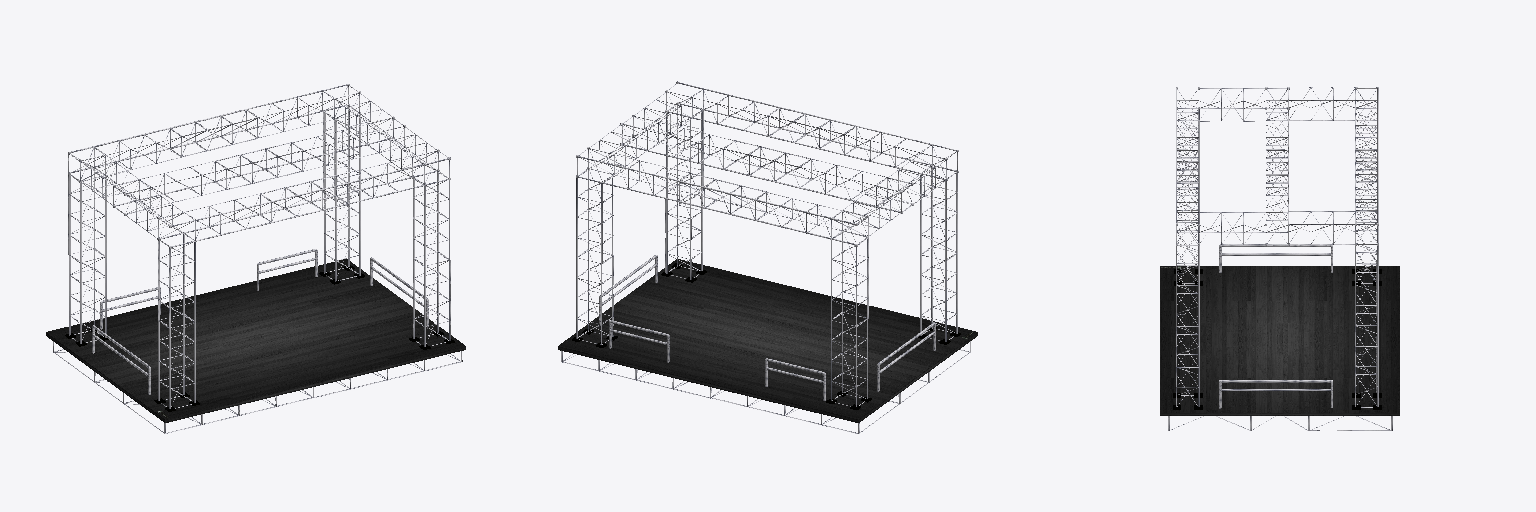
3 renders of one model, left to right at view 1: azimuth 30°, elevation 25°; view 2: azimuth 150°, elevation 25°; view 3: azimuth 270°, elevation 25°, orthographic.
Visible parts, largest first — view 1: Cube.001, Cube.005_Cube.016, Cube.004_Cube.015, Cube.007_Cube.018, Cube.011_Cube.022, Cube.010_Cube.021, Cube.002_Cube.013, Cube.003_Cube.014, Cube.006_Cube.017, Cube.002, Cube.001_Cube.012, Cube.008_Cube.019 (+3 smaller); view 2: Cube.001, Cube.005_Cube.016, Cube.004_Cube.015, Cube.007_Cube.018, Cube.002, Cube.003_Cube.014, Cube.002_Cube.013, Cube.011_Cube.022, Cube.006_Cube.017, Cube.001_Cube.012, Cube.008_Cube.019, Cube.014_Cube.003 (+3 smaller); view 3: Cube.001, Cube.005_Cube.016, Cube.004_Cube.015, Cube.056, Cube.057, Cube.002, Cube.011_Cube.022, Cube.007_Cube.018.
Part boxes in pixels (left/top/right/bottom): Cube.001: left=46, top=259, right=465, bottom=422; Cube.005_Cube.016: left=69, top=147, right=183, bottom=238; Cube.004_Cube.015: left=325, top=87, right=436, bottom=176; Cube.007_Cube.018: left=191, top=118, right=402, bottom=193; Cube.011_Cube.022: left=413, top=171, right=450, bottom=345; Cube.010_Cube.021: left=158, top=233, right=194, bottom=408; Cube.002_Cube.013: left=145, top=85, right=358, bottom=163; Cube.003_Cube.014: left=68, top=106, right=283, bottom=181; Cube.006_Cube.017: left=113, top=136, right=328, bottom=213; Cube.002: left=323, top=105, right=358, bottom=280; Cube.001_Cube.012: left=68, top=170, right=104, bottom=342; Cube.008_Cube.019: left=234, top=151, right=449, bottom=227; Cube.001: left=558, top=259, right=977, bottom=422; Cube.005_Cube.016: left=832, top=153, right=946, bottom=243; Cube.004_Cube.015: left=577, top=92, right=692, bottom=179; Cube.007_Cube.018: left=623, top=117, right=836, bottom=192; Cube.002: left=578, top=169, right=613, bottom=344; Cube.003_Cube.014: left=653, top=167, right=868, bottom=244; Cube.002_Cube.013: left=577, top=149, right=791, bottom=225; Cube.011_Cube.022: left=665, top=105, right=703, bottom=279; Cube.006_Cube.017: left=699, top=138, right=912, bottom=210; Cube.001_Cube.012: left=832, top=231, right=868, bottom=406; Cube.008_Cube.019: left=666, top=84, right=881, bottom=160; Cube.014_Cube.003: left=561, top=351, right=899, bottom=433; Cube.001: left=1160, top=266, right=1399, bottom=415; Cube.005_Cube.016: left=1199, top=87, right=1376, bottom=121; Cube.004_Cube.015: left=1199, top=211, right=1376, bottom=244; Cube.056: left=1219, top=244, right=1332, bottom=272; Cube.057: left=1219, top=380, right=1332, bottom=408; Cube.002: left=1355, top=233, right=1377, bottom=407; Cube.011_Cube.022: left=1176, top=232, right=1198, bottom=406; Cube.007_Cube.018: left=1266, top=132, right=1288, bottom=245.
Bounding box in the file's own units: 19.39 × 12.54 × 13.34.
3 materials, 2 textured.